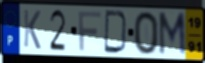2: (49, 9, 68, 53)
D: (103, 9, 129, 56)
F: (77, 11, 103, 53)
K: (22, 8, 42, 51)
M: (157, 11, 188, 58)
O: (133, 10, 160, 57)
